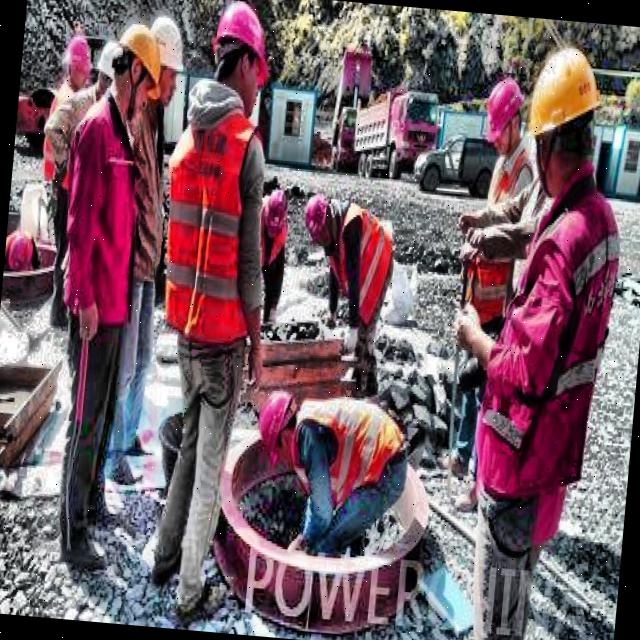helmet: (515, 36, 610, 200), (204, 0, 272, 108), (108, 18, 168, 120), (3, 214, 50, 317), (140, 9, 184, 108), (478, 72, 528, 158), (254, 391, 299, 458), (298, 187, 342, 249), (94, 36, 131, 104), (61, 27, 93, 93), (258, 182, 292, 242)
